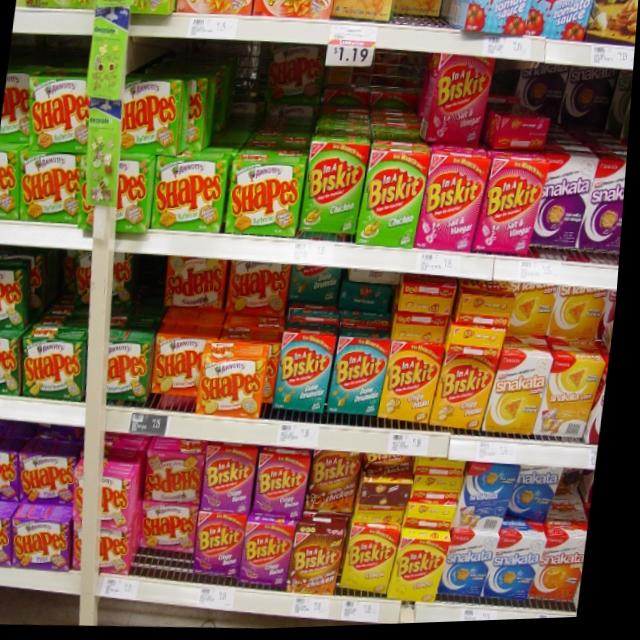q286: (296, 131, 371, 250), (358, 146, 436, 255)
